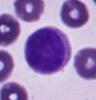L: (23, 26, 72, 76)
